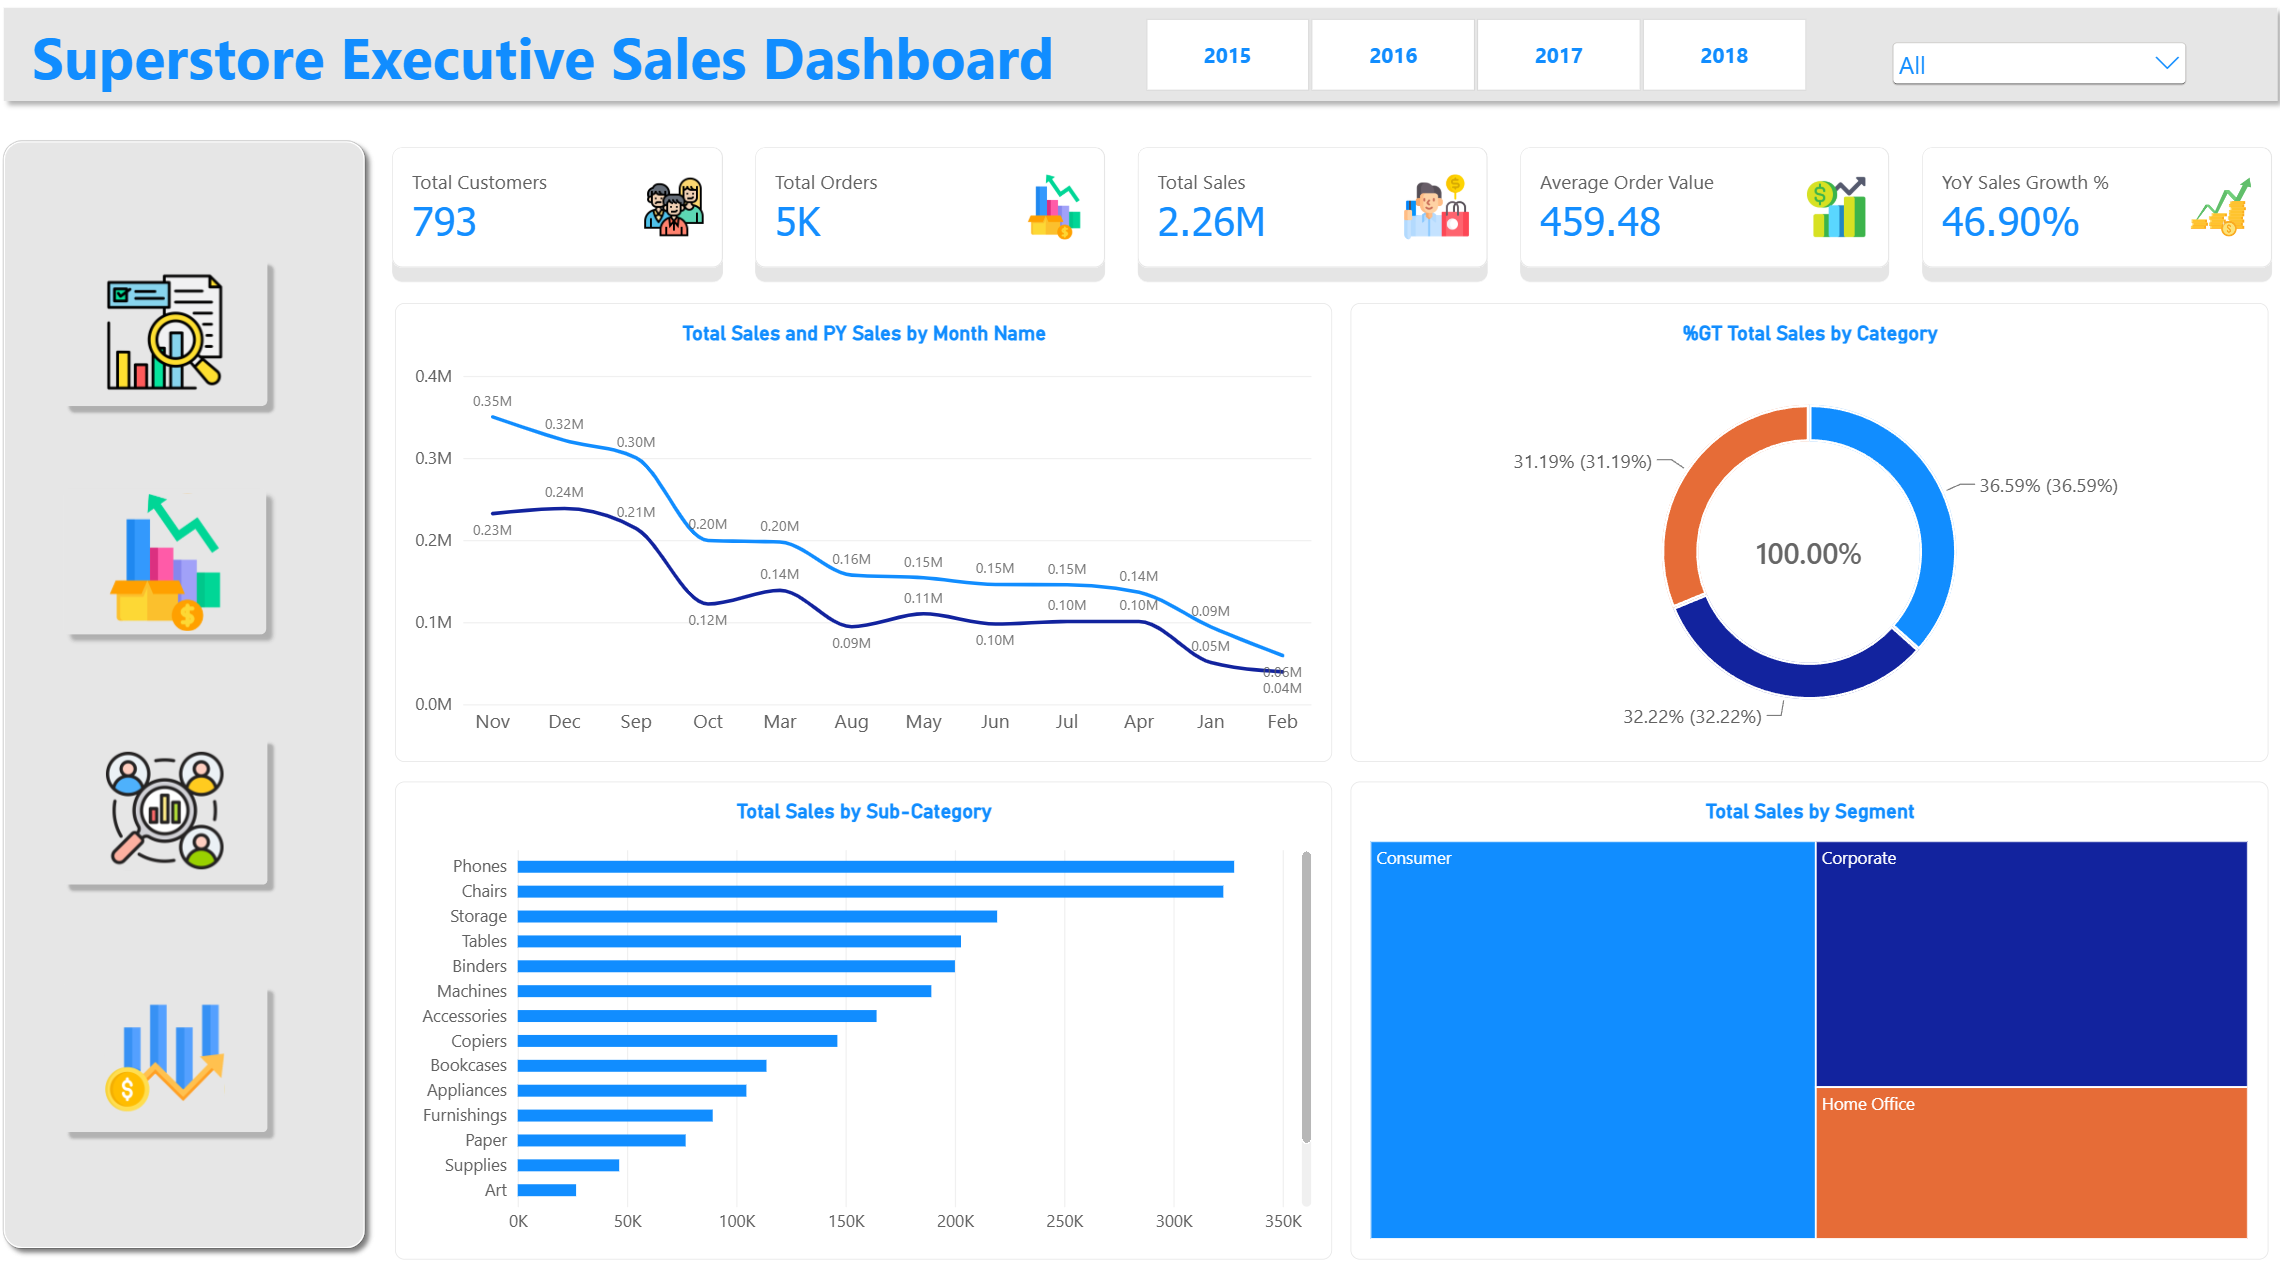

The page's visual inventory and layout, read from the dashboard file:
{"tool":"powerbi","page":{"name":"Executive Overview","canvas":[1920,1080],"ordinal":0},"visuals":[{"type":"shape","box":[0,0,1920,96],"z":0},{"type":"textbox","box":[32,16,944,64],"z":1000},{"type":"slicer","fields":{"Values":["Dim_Date.Year"]},"box":[944,16,592,64],"z":2000},{"type":"slicer","fields":{"Values":["Dim_Region.Region"]},"box":[1584,32,256,48],"z":3000},{"type":"cardVisual","fields":{"Data":["_Measures.Total Sales"]},"box":[944,112,320,128],"z":4000},{"type":"cardVisual","fields":{"Data":["_Measures.Total Orders"]},"box":[624,112,320,128],"z":5000},{"type":"cardVisual","fields":{"Data":["_Measures.Average Order Value"]},"box":[1264,112,336,128],"z":6000},{"type":"cardVisual","fields":{"Data":["_Measures.YoY Sales Growth %"]},"box":[1600,112,320,128],"z":7000},{"type":"lineChart","fields":{"Category":["Dim_Date.Month Name"],"Y":["_Measures.Total Sales","_Measures.PY Sales"]},"box":[336,256,784,384],"z":8000},{"type":"donutChart","fields":{"Category":["Dim_Product.Category"],"Y":["_Measures.Total Sales"]},"box":[1136,256,768,384],"z":9000},{"type":"barChart","fields":{"Category":["Dim_Product.Sub-Category"],"Y":["_Measures.Total Sales"]},"box":[336,656,784,400],"z":10000},{"type":"treemap","fields":{"Group":["Dim_Customer.Segment"],"Values":["_Measures.Total Sales"]},"box":[1136,656,768,400],"z":11000},{"type":"cardVisual","fields":{"Data":["_Measures.Total Customers"]},"box":[320,112,304,128],"z":12000},{"type":"shape","box":[0,112,320,944],"z":13000},{"type":"actionButton","box":[80,208,160,144],"z":14000},{"type":"actionButton","box":[80,416,160,144],"z":15000},{"type":"actionButton","box":[80,624,160,144],"z":16000},{"type":"actionButton","box":[80,832,160,144],"z":17000}]}

Visuals, with their boxes in screenshot pixels (x1, y1, x2, y2), scaled from the page's 1920x1080 canvas onto the 2280x1279 screenshot:
shape: select_region(0, 0, 2279, 114)
textbox: select_region(38, 19, 1159, 95)
slicer - Dim_Date.Year: select_region(1121, 19, 1824, 95)
slicer - Dim_Region.Region: select_region(1881, 38, 2185, 95)
cardVisual - _Measures.Total Sales: select_region(1121, 133, 1501, 284)
cardVisual - _Measures.Total Orders: select_region(741, 133, 1121, 284)
cardVisual - _Measures.Average Order Value: select_region(1501, 133, 1900, 284)
cardVisual - _Measures.YoY Sales Growth %: select_region(1900, 133, 2279, 284)
lineChart - Dim_Date.Month Name x _Measures.Total Sales: select_region(399, 303, 1330, 758)
donutChart - Dim_Product.Category x _Measures.Total Sales: select_region(1349, 303, 2261, 758)
barChart - Dim_Product.Sub-Category x _Measures.Total Sales: select_region(399, 777, 1330, 1251)
treemap - Dim_Customer.Segment x _Measures.Total Sales: select_region(1349, 777, 2261, 1251)
cardVisual - _Measures.Total Customers: select_region(380, 133, 741, 284)
shape: select_region(0, 133, 380, 1251)
actionButton: select_region(95, 246, 285, 417)
actionButton: select_region(95, 493, 285, 663)
actionButton: select_region(95, 739, 285, 910)
actionButton: select_region(95, 985, 285, 1156)
